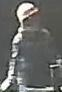helmet: (15, 2, 40, 23)
vest: (14, 28, 55, 85)
